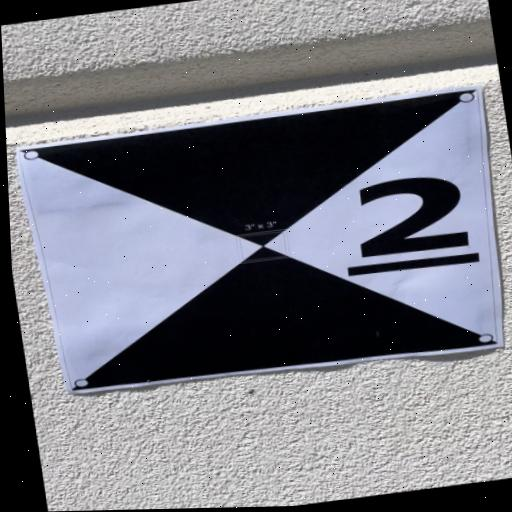target2: (15, 90, 511, 402)
